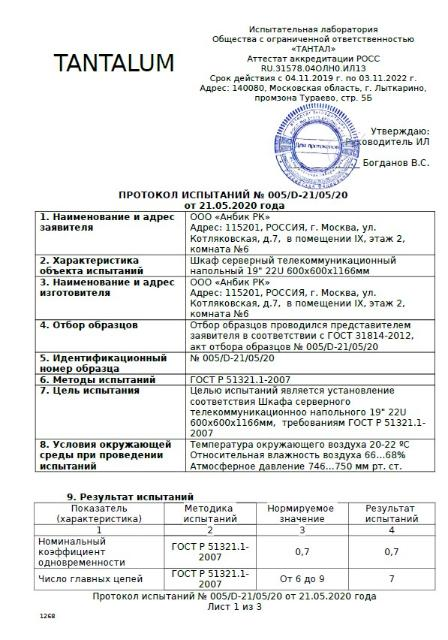stamp: (274, 104, 360, 188)
